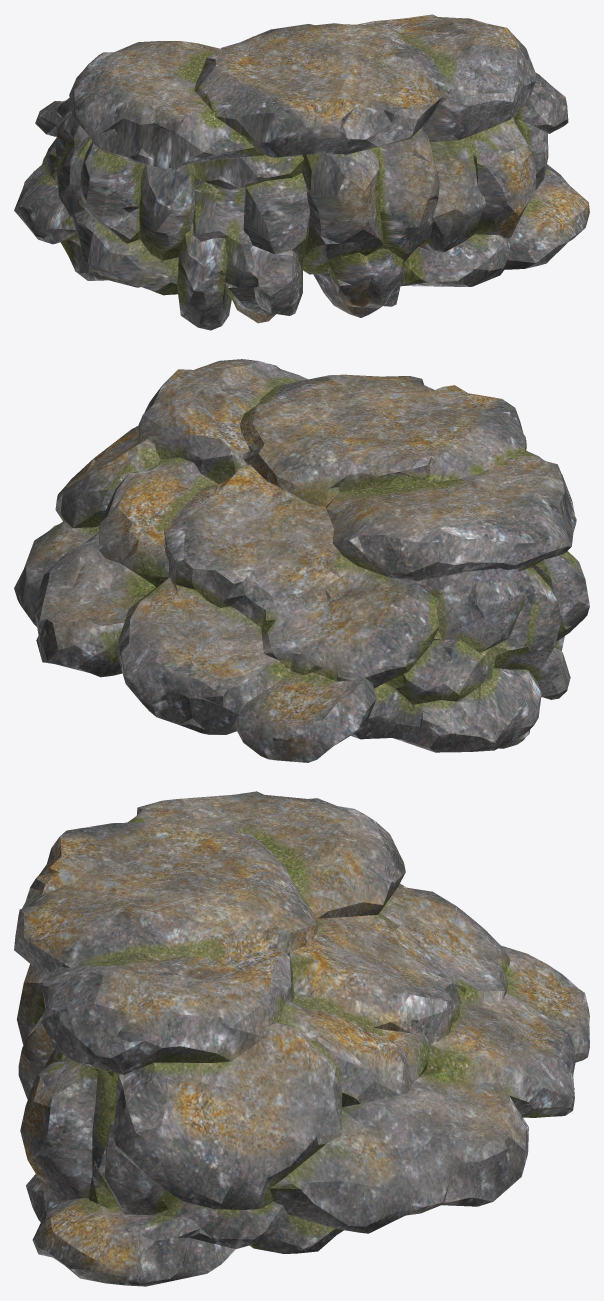
The picture shows the model from 3 angles, top to bottom: view 1: azimuth 30°, elevation 25°; view 2: azimuth 150°, elevation 25°; view 3: azimuth 270°, elevation 25°; orthographic projection. The views are drawn at different scales.
Visible parts, largest first — view 1: lp; view 2: lp; view 3: lp.
Part boxes in pixels (bbox=[...]): lp: bbox=[14, 14, 589, 330]; lp: bbox=[14, 359, 589, 762]; lp: bbox=[14, 791, 589, 1286].
Size of the model in its own units: 918 by 465 by 770.
1 material, 1 textured.
